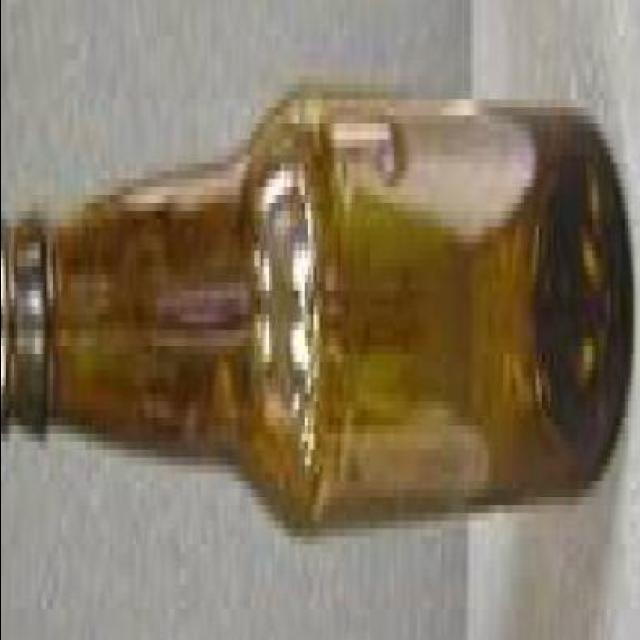kaca: (0, 84, 630, 521)
